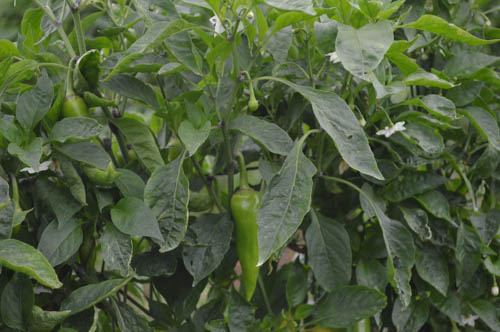ChiliPepper: (230, 185, 262, 301), (66, 94, 98, 163)
